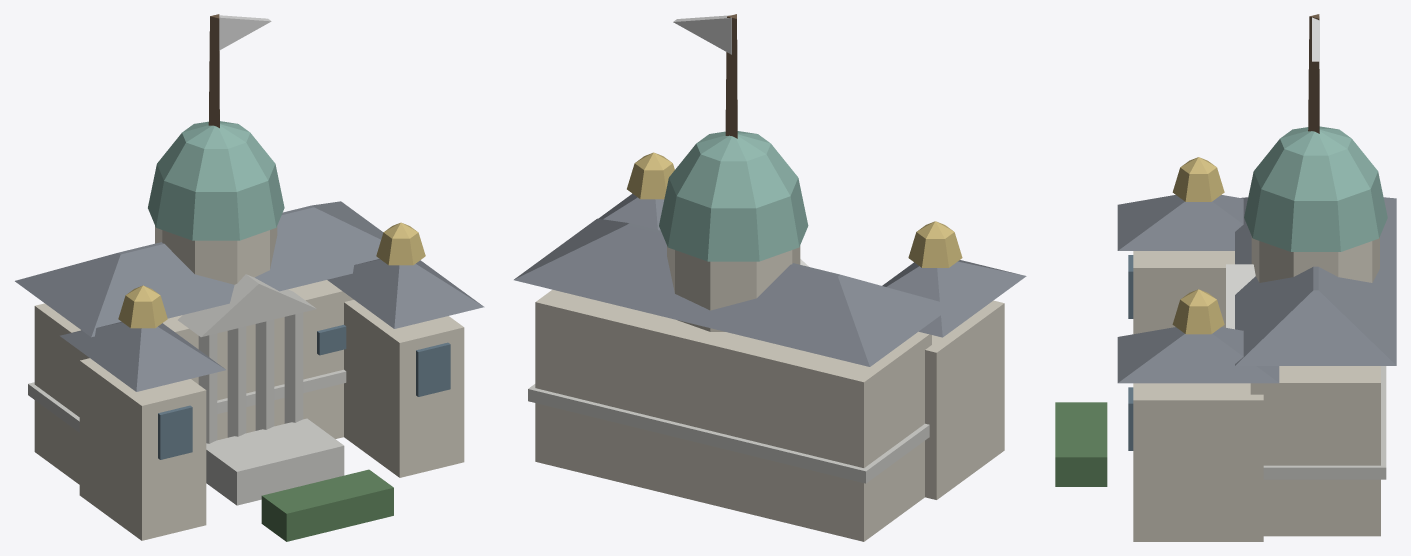
Rendered from palace.glb.
3 views of the same model, side by side, from view 1: azimuth 30°, elevation 25°; view 2: azimuth 150°, elevation 25°; view 3: azimuth 270°, elevation 25° (orthographic). The views are drawn at different scales.
Parts seen in each view (by area): view 1: LOD0; view 2: LOD0; view 3: LOD0.
Boxes of the visible parts, box(x1,y1,x2,y2) form: LOD0: box(15, 14, 484, 541); LOD0: box(514, 14, 1026, 541); LOD0: box(1055, 14, 1396, 541).
Size of what is drawn, in the model's own units: 0.324 by 0.375 by 0.262.
